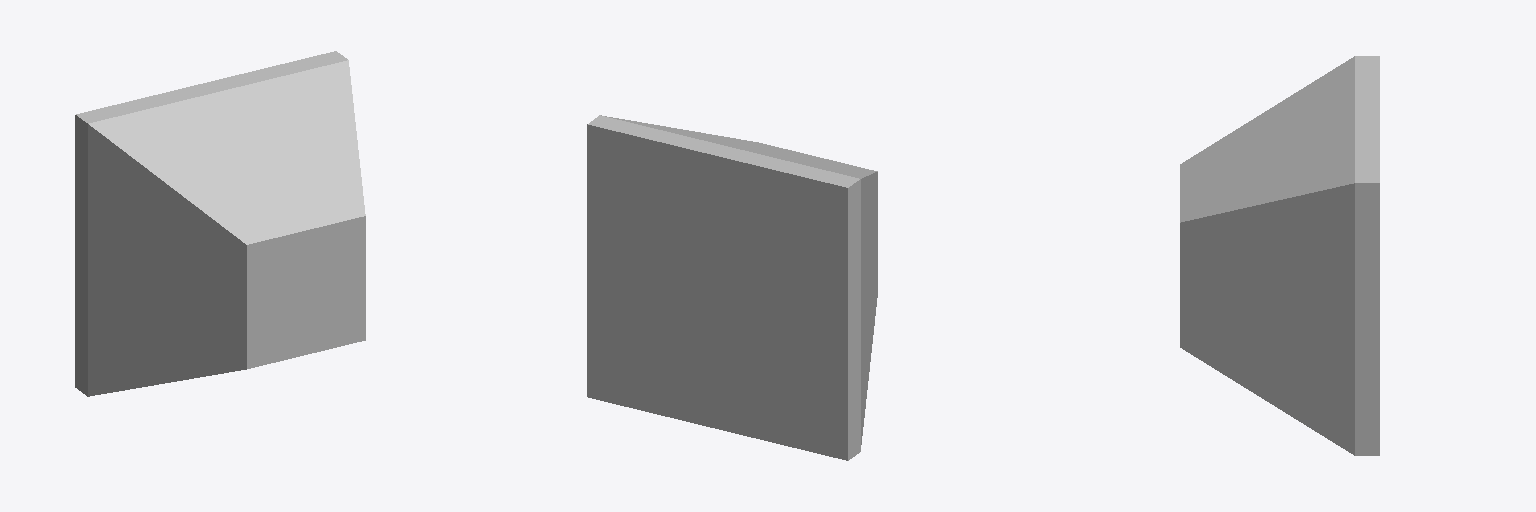
File: chamfered_stud.obj
3 views of the same model, side by side, from view 1: azimuth 30°, elevation 25°; view 2: azimuth 150°, elevation 25°; view 3: azimuth 270°, elevation 25° (orthographic).
Visible parts, largest first — view 1: ChamferedStud_squarebase; view 2: ChamferedStud_squarebase; view 3: ChamferedStud_squarebase.
Boxes of the visible parts, x1=… form: ChamferedStud_squarebase: x1=75, y1=51, x2=365, y2=396; ChamferedStud_squarebase: x1=587, y1=115, x2=877, y2=460; ChamferedStud_squarebase: x1=1180, y1=56, x2=1379, y2=455.
Size of the model in its own units: 0.006 by 0.006 by 0.004.